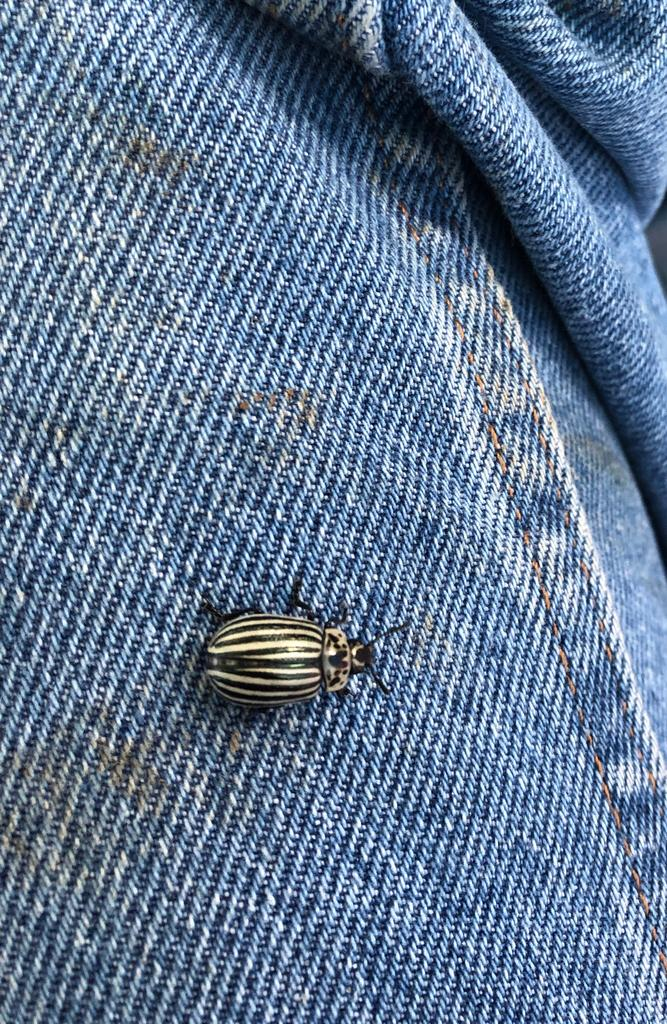potato_beetle: (165, 567, 442, 736)
